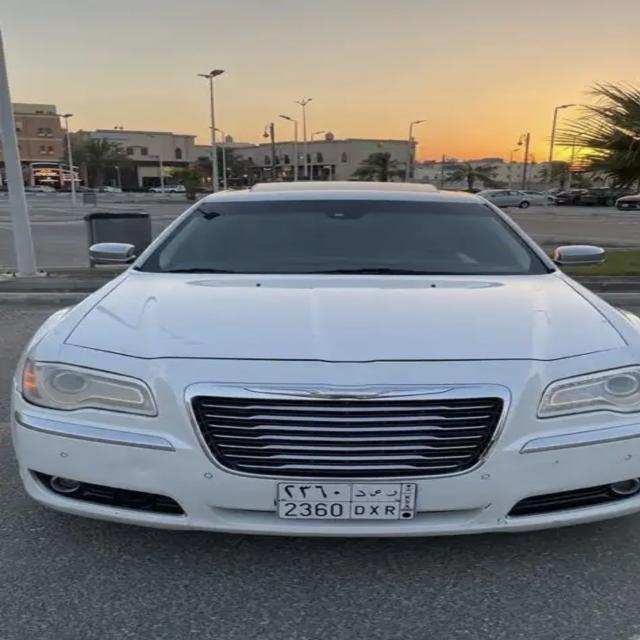license_plate: (274, 482, 420, 520)
